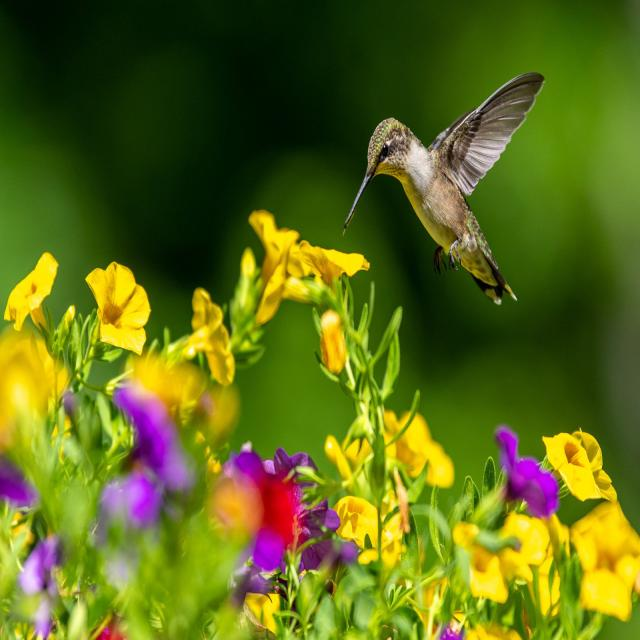Humming Bird: (343, 65, 536, 310)
